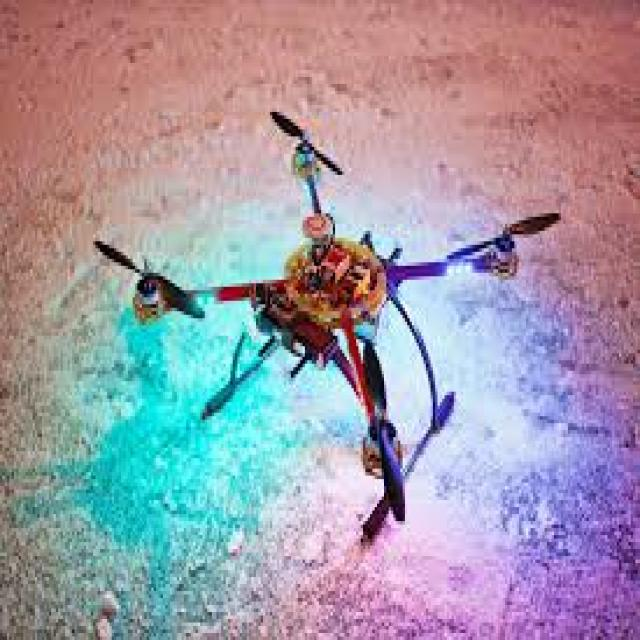drone: (81, 91, 533, 532)
